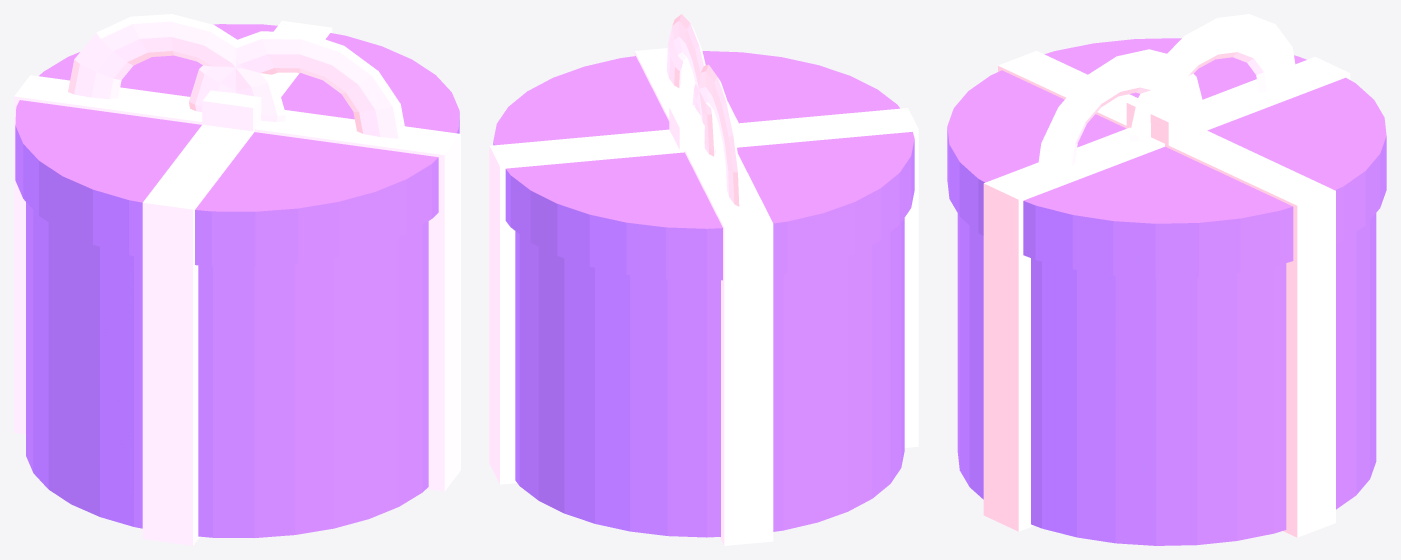
The model's file is Tmpl_Round_Root_221.glb.
3 renders of one model, left to right at view 1: azimuth 30°, elevation 25°; view 2: azimuth 150°, elevation 25°; view 3: azimuth 270°, elevation 25°, orthographic. The views are drawn at different scales.
Visible parts, largest first — view 1: Tmpl_Round_Base.219, Tmpl_Round_Lid.219, Tmpl_Round_Ribbon_Y.219, Tmpl_Round_Ribbon_X.219, Tmpl_Round_BowR.219, Tmpl_Round_BowL.219, Tmpl_Round_BowKnot.219; view 2: Tmpl_Round_Base.219, Tmpl_Round_Lid.219, Tmpl_Round_Ribbon_X.219, Tmpl_Round_Ribbon_Y.219, Tmpl_Round_BowL.219, Tmpl_Round_BowR.219, Tmpl_Round_BowKnot.219; view 3: Tmpl_Round_Base.219, Tmpl_Round_Lid.219, Tmpl_Round_Ribbon_Y.219, Tmpl_Round_Ribbon_X.219, Tmpl_Round_BowR.219, Tmpl_Round_BowL.219, Tmpl_Round_BowKnot.219.
Boxes of the visible parts, <box> form: Tmpl_Round_Base.219: <box>26,202,428,537</box>; Tmpl_Round_Lid.219: <box>15,24,459,266</box>; Tmpl_Round_Ribbon_Y.219: <box>142,21,332,545</box>; Tmpl_Round_Ribbon_X.219: <box>14,75,460,491</box>; Tmpl_Round_BowR.219: <box>68,14,285,121</box>; Tmpl_Round_BowL.219: <box>189,31,406,138</box>; Tmpl_Round_BowKnot.219: <box>202,90,261,133</box>; Tmpl_Round_Base.219: <box>515,218,904,537</box>; Tmpl_Round_Lid.219: <box>493,51,914,280</box>; Tmpl_Round_Ribbon_X.219: <box>634,48,773,545</box>; Tmpl_Round_Ribbon_Y.219: <box>489,108,918,484</box>; Tmpl_Round_BowL.219: <box>666,14,715,156</box>; Tmpl_Round_BowR.219: <box>692,64,741,206</box>; Tmpl_Round_BowKnot.219: <box>669,102,738,152</box>; Tmpl_Round_Base.219: <box>957,213,1376,545</box>; Tmpl_Round_Lid.219: <box>947,38,1386,278</box>; Tmpl_Round_Ribbon_Y.219: <box>998,51,1335,537</box>; Tmpl_Round_Ribbon_X.219: <box>983,57,1350,531</box>; Tmpl_Round_BowR.219: <box>1129,14,1297,141</box>; Tmpl_Round_BowL.219: <box>1036,49,1203,177</box>; Tmpl_Round_BowKnot.219: <box>1126,98,1207,147</box>.
Bounding box in the file's own units: 0.8966 × 0.953 × 0.8966.
